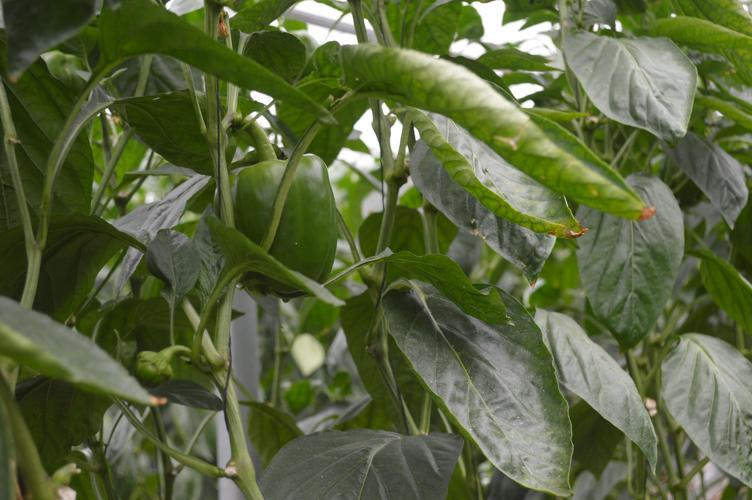BellPepper: (217, 148, 334, 297)
